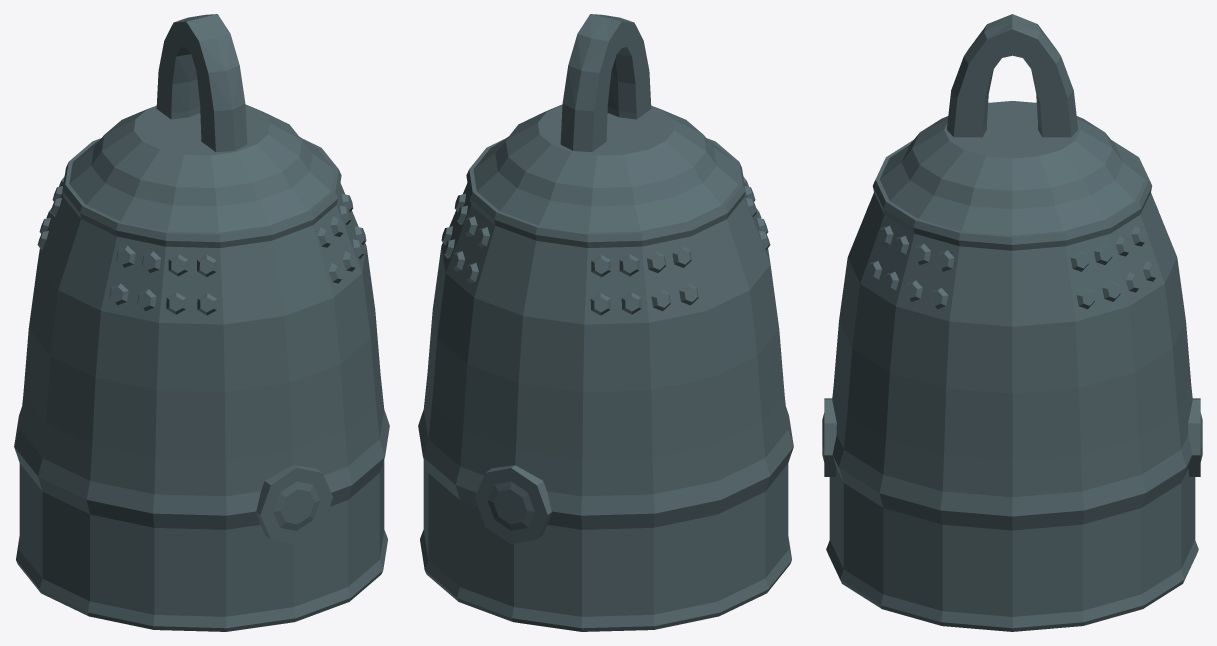
File: Asian_Prop_Temple_Great_Bell_Bonshou_01.FBX
The picture shows the model from 3 angles, left to right: view 1: azimuth 30°, elevation 25°; view 2: azimuth 150°, elevation 25°; view 3: azimuth 270°, elevation 25°; orthographic projection.
Visible parts, largest first — view 1: Asian_Prop_Temple_Great_Bell_Bonshou_01; view 2: Asian_Prop_Temple_Great_Bell_Bonshou_01; view 3: Asian_Prop_Temple_Great_Bell_Bonshou_01.
Boxes of the visible parts, bbox=[...] form: Asian_Prop_Temple_Great_Bell_Bonshou_01: bbox=[14, 14, 389, 631]; Asian_Prop_Temple_Great_Bell_Bonshou_01: bbox=[418, 14, 793, 631]; Asian_Prop_Temple_Great_Bell_Bonshou_01: bbox=[822, 14, 1202, 631].
Bounding box in the file's own units: 1817 × 2836 × 1835.
